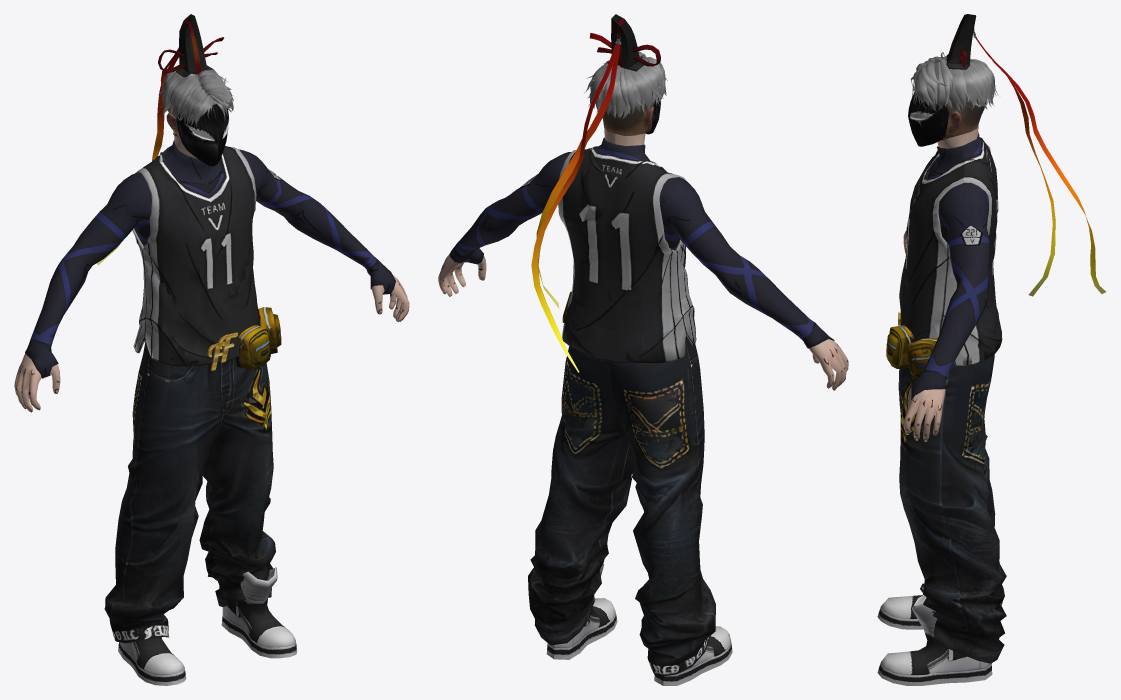
Rendered from alpha.glb.
3 renders of one model, left to right at view 1: azimuth 30°, elevation 25°; view 2: azimuth 150°, elevation 25°; view 3: azimuth 270°, elevation 25°, orthographic. The views are drawn at different scales.
Visible parts, largest first — view 1: alpha; view 2: alpha; view 3: alpha.
Part boxes in pixels (<box>): alpha: <box>14,14,409,685</box>; alpha: <box>438,14,848,685</box>; alpha: <box>877,14,1105,685</box>.
Size of the model in its own units: 0.6322 by 0.9783 by 0.3185.
7 materials, 7 textured.
